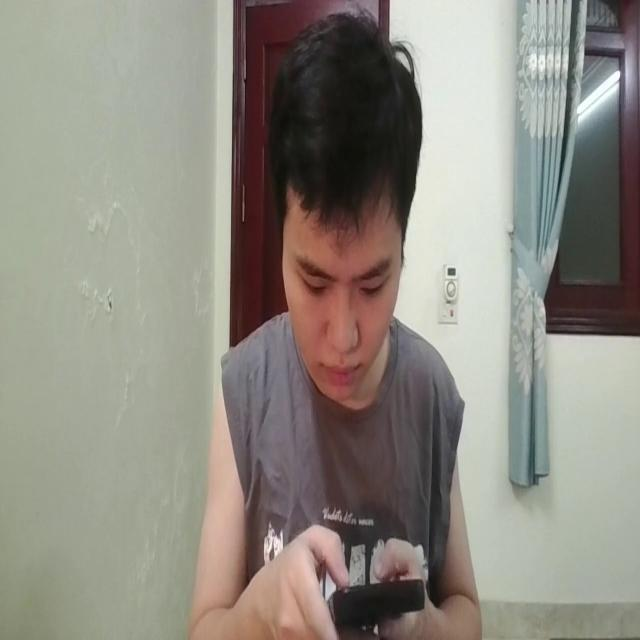phone: (317, 577, 426, 633)
student: (198, 2, 484, 640)
